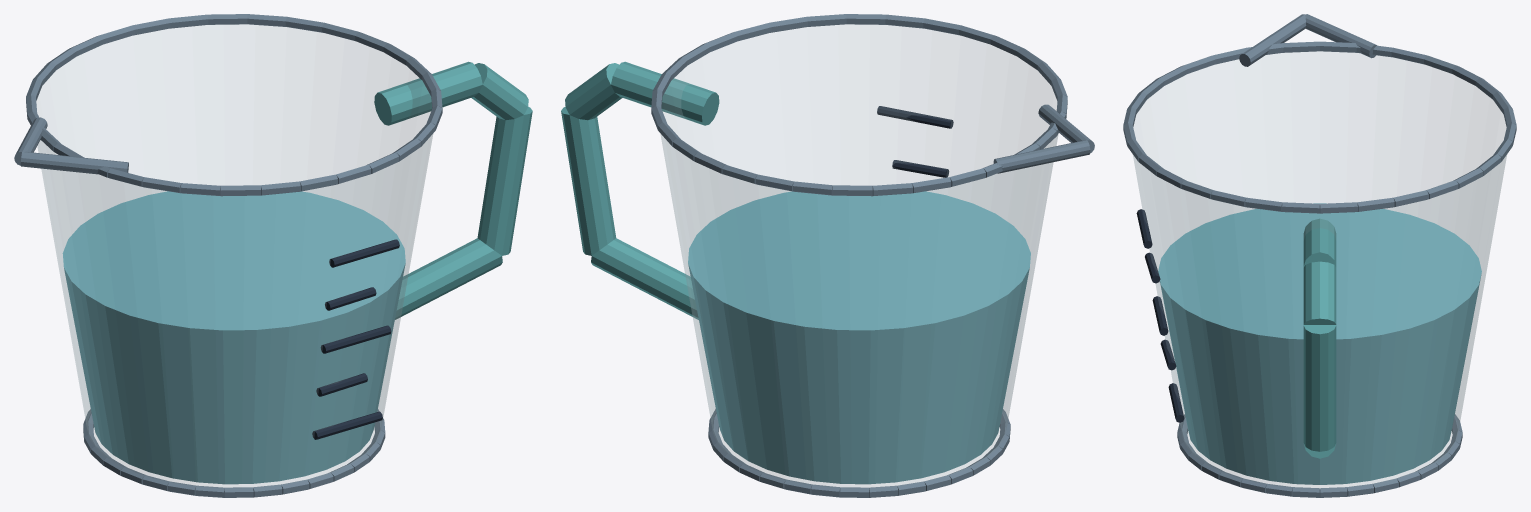
File: jug.glb
The picture shows the model from 3 angles, left to right: view 1: azimuth 30°, elevation 25°; view 2: azimuth 150°, elevation 25°; view 3: azimuth 270°, elevation 25°; orthographic projection. The views are drawn at different scales.
Parts seen in each view (by area): view 1: glass wall, liquid, handle2, handle3, handle0, handle1, pour lip0, tick 4, tick 2, tick 0, pour lip1; view 2: glass wall, liquid, handle2, handle3, handle0, handle1, pour lip1, pour lip0, tick 4; view 3: glass wall, liquid, handle2, handle1, handle0, pour lip0, pour lip1.
Boxes of the visible parts, x1,y1,x2,y2 form: glass wall: (37,25,432,487); liquid: (62,191,405,484); handle2: (477,107,532,255); handle3: (395,238,502,319); handle0: (374,61,482,125); handle1: (471,63,528,120); pour lip0: (20,151,128,174); tick 4: (329,239,399,267); tick 2: (320,325,391,353); tick 0: (312,411,382,439); pour lip1: (14,117,47,165); glass wall: (660,25,1058,487); liquid: (688,191,1030,484); handle2: (561,106,616,255); handle3: (591,238,698,319); handle0: (611,61,719,125); handle1: (565,63,622,120); pour lip1: (993,140,1090,173); pour lip0: (1038,104,1094,152); tick 4: (877,106,953,128); glass wall: (1133,52,1506,488); liquid: (1158,203,1481,484); handle2: (1303,325,1336,451); handle1: (1303,261,1336,324); handle0: (1303,218,1336,266); pour lip0: (1239,14,1306,66); pour lip1: (1305,14,1376,58).
Bounding box in the file's own units: 1.89 × 1.19 × 1.31.
